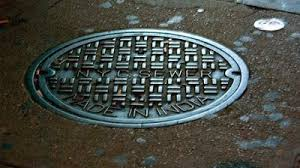manhole: (8, 12, 268, 146)
